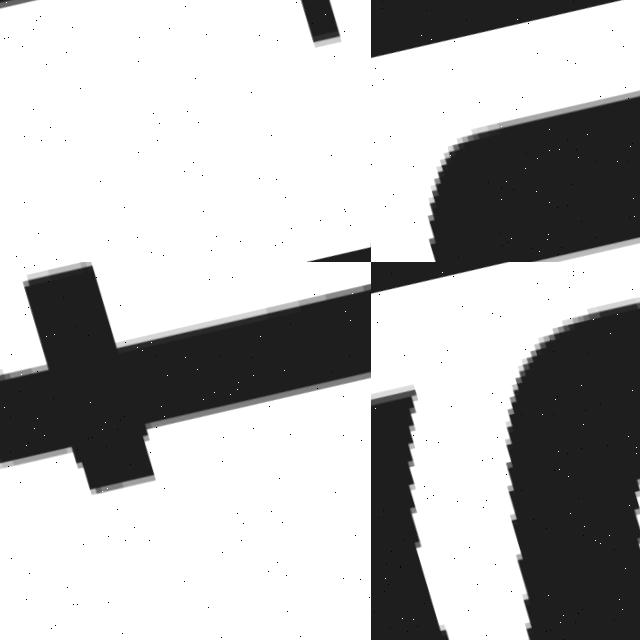1: (0, 0, 357, 226)
F: (0, 262, 371, 596)
N: (371, 0, 640, 262)
S: (371, 262, 640, 640)
